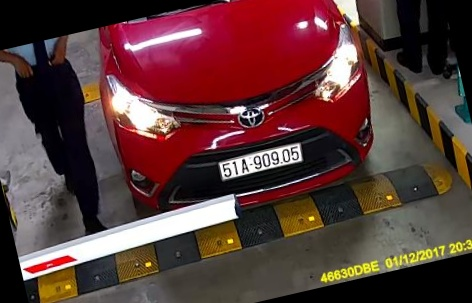plate: (213, 136, 305, 189)
